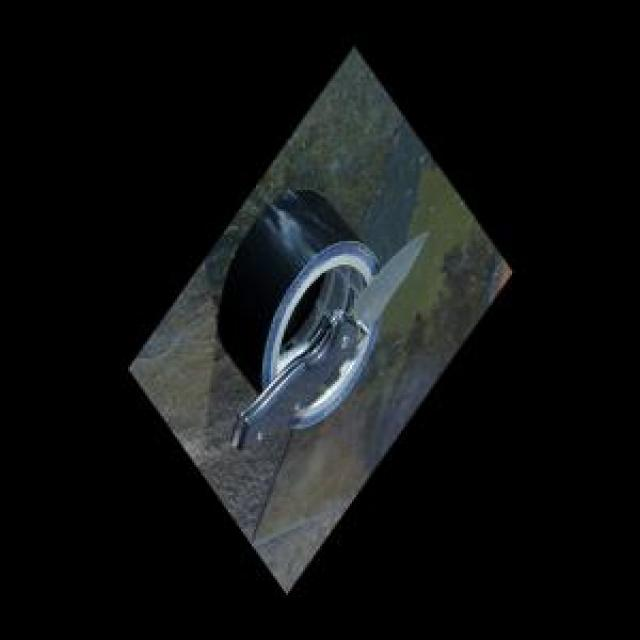knife: (233, 228, 432, 451)
